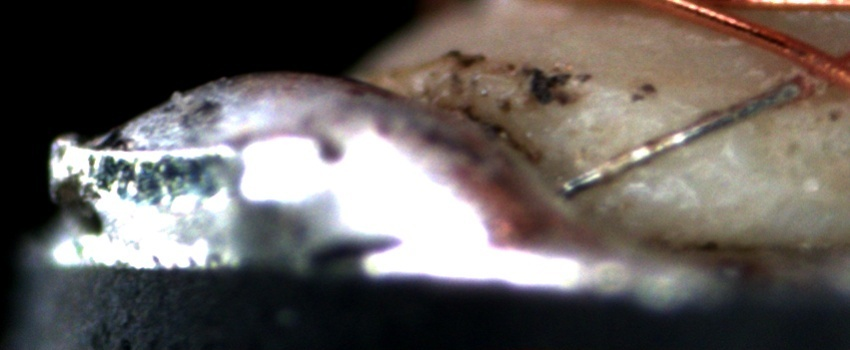CL: (772, 37, 847, 104)
TS: (559, 84, 798, 195)
